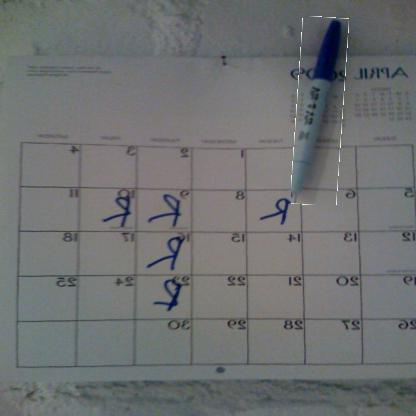Pen: (293, 17, 345, 205)
